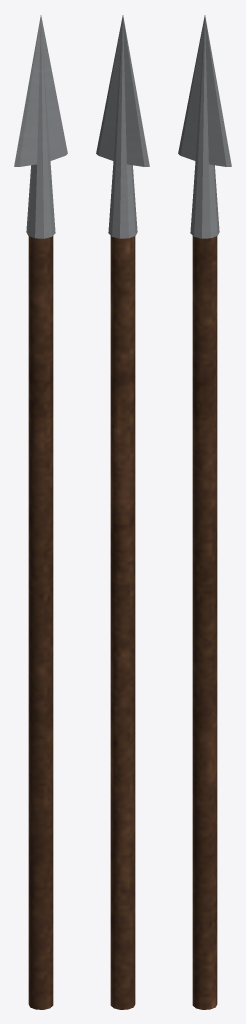
Rendered from Spear.fbx.
3 renders of one model, left to right at view 1: azimuth 30°, elevation 25°; view 2: azimuth 150°, elevation 25°; view 3: azimuth 330°, elevation 25°, orthographic.
Visible parts, largest first — view 1: Spear; view 2: Spear; view 3: Spear.
Boxes of the visible parts, box(x1,y1,x2,y2) form: Spear: box(14, 15, 67, 1009); Spear: box(96, 15, 149, 1009); Spear: box(178, 15, 231, 1009).
Size of the model in its own units: 0.1394 by 2.45 by 0.0625.
